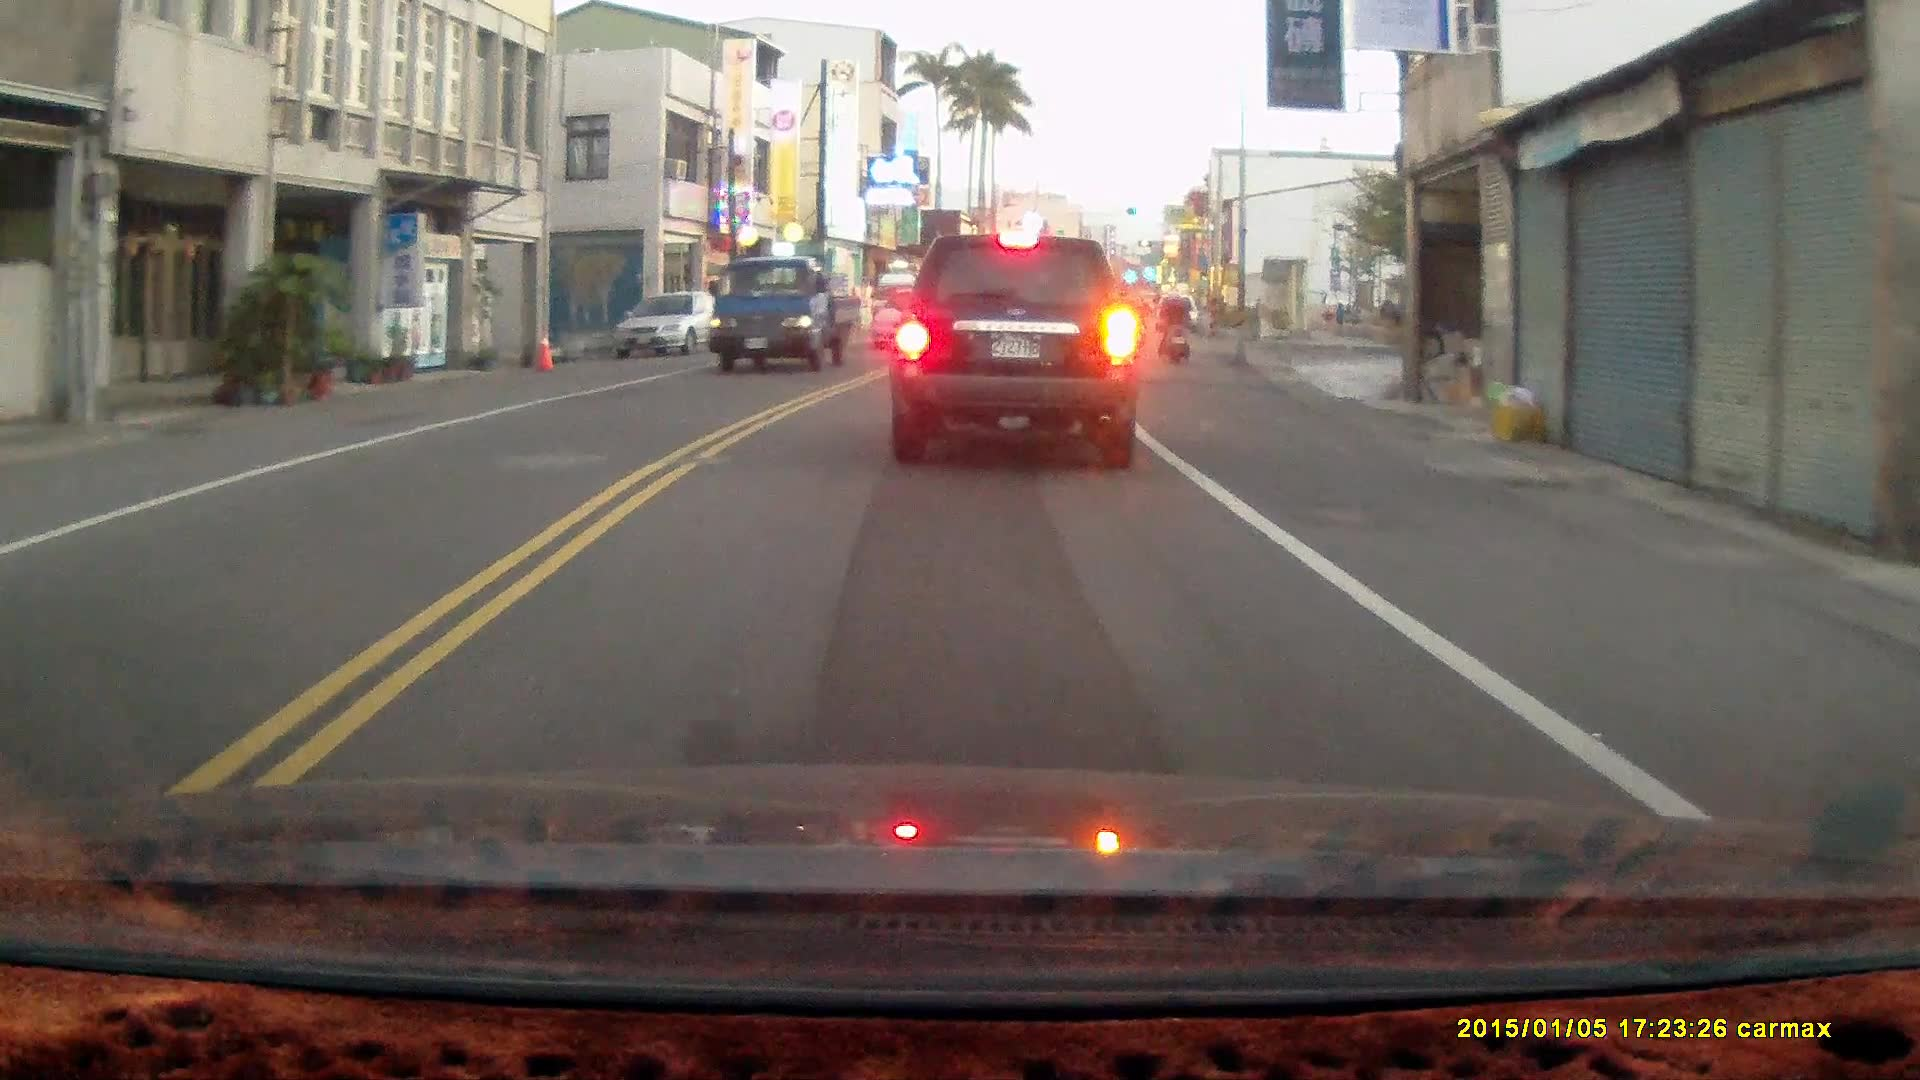rider: (1158, 280, 1189, 362)
vehicle: (888, 228, 1143, 467), (705, 252, 856, 374), (606, 290, 740, 358)
